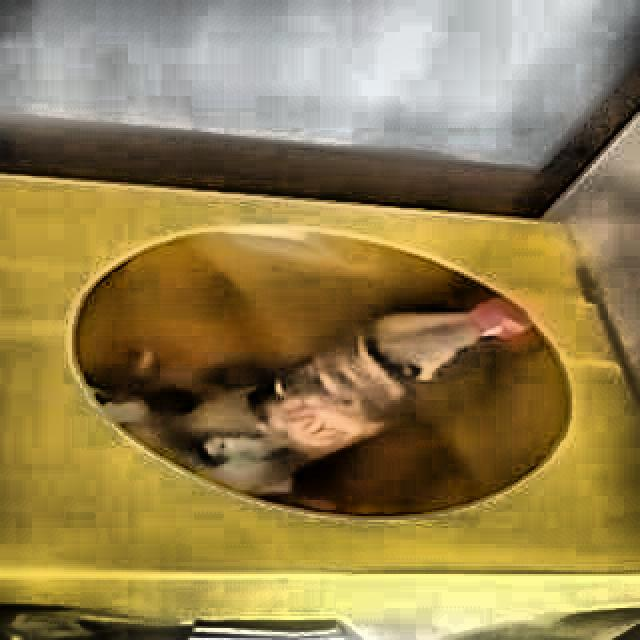plastic: (189, 297, 531, 495)
